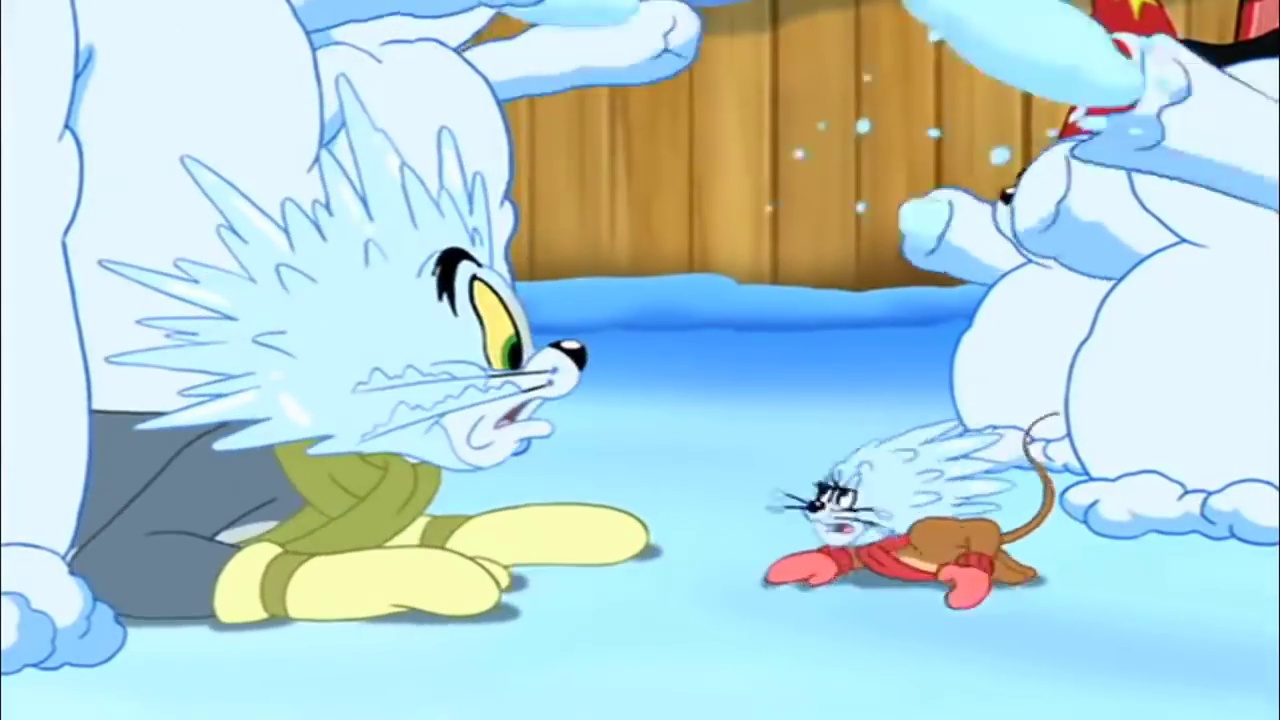face: (420, 245, 591, 467), (791, 456, 887, 548)
